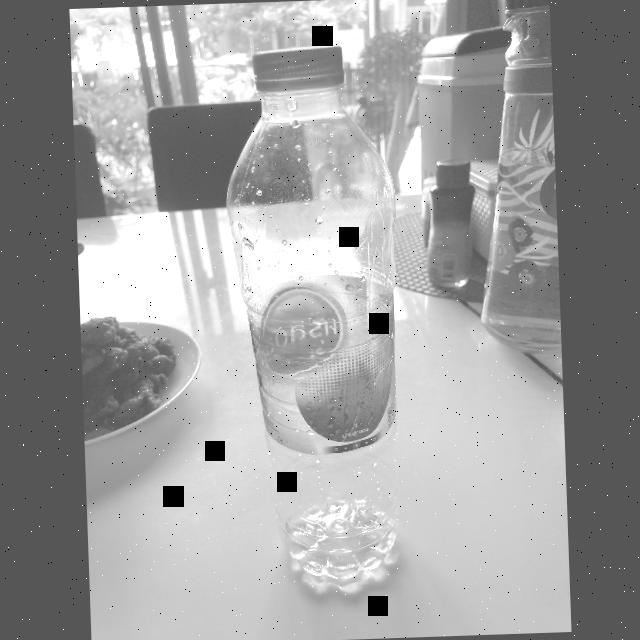plastic_bottle: (216, 39, 410, 597)
plastic_bottle_cap: (249, 41, 345, 92)
